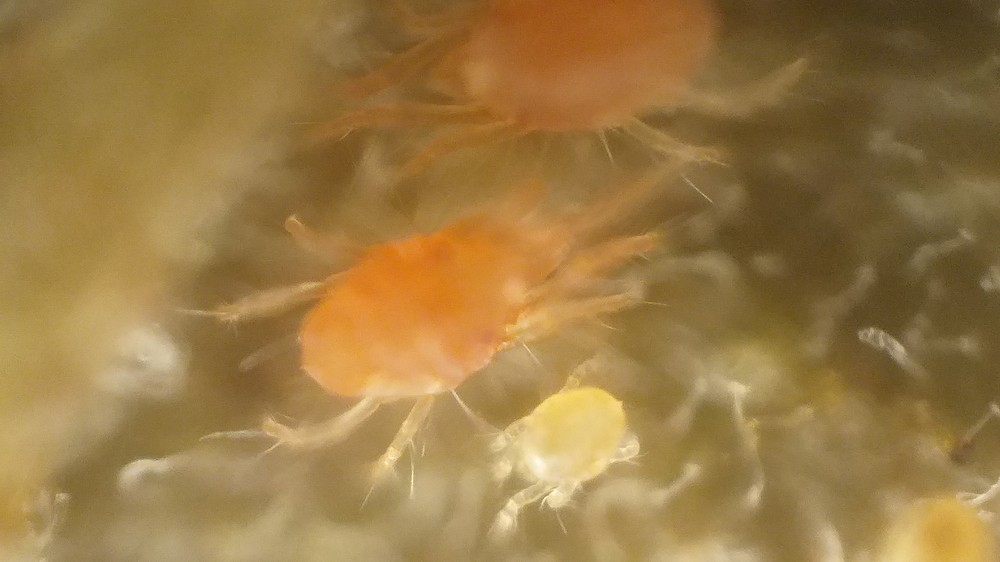Aracnido Rojo: (206, 166, 695, 446), (315, 5, 821, 178), (478, 374, 655, 531)
